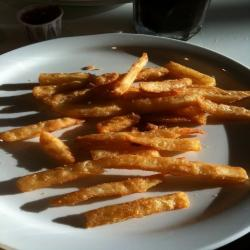fries: (37, 66, 185, 182)
